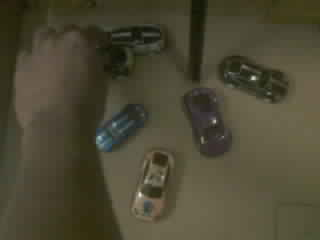Car: (183, 88, 231, 156), (219, 56, 288, 102), (132, 149, 173, 220), (97, 104, 146, 151), (112, 25, 163, 52), (107, 48, 132, 74)
